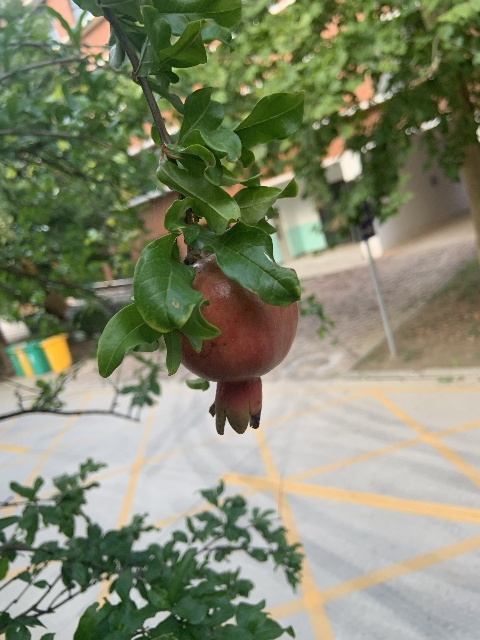ripe: (179, 254, 297, 436)
